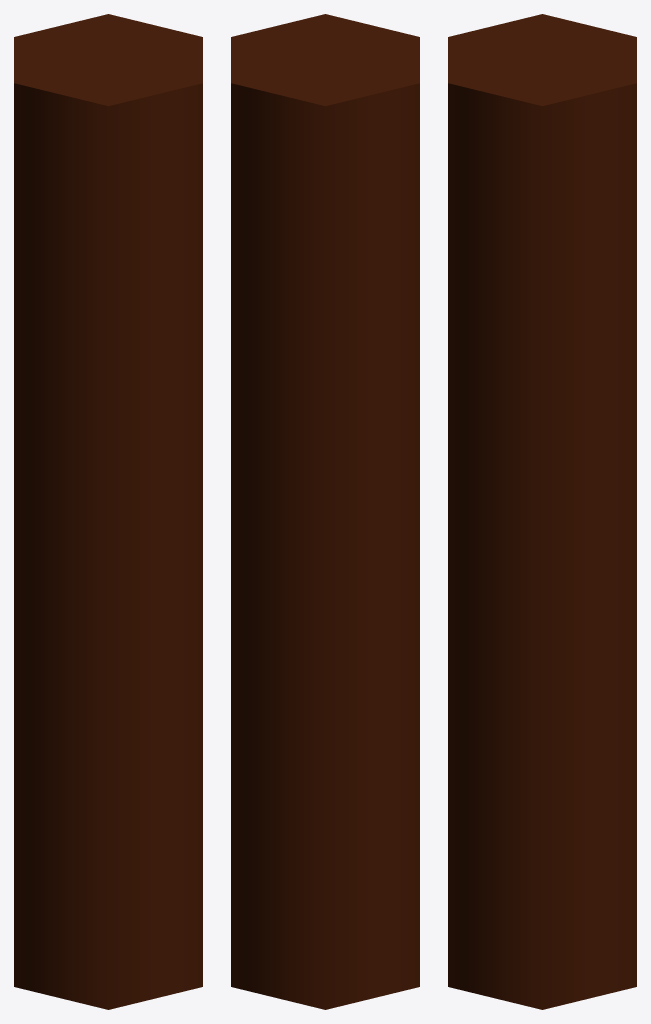
The model's file is FencePost.FBX.
3 views of the same model, side by side, from view 1: azimuth 30°, elevation 25°; view 2: azimuth 150°, elevation 25°; view 3: azimuth 270°, elevation 25° (orthographic).
Parts seen in each view (by area): view 1: Fence169; view 2: Fence169; view 3: Fence169.
Part boxes in pixels (x1,y1,x2,y2): Fence169: (14, 14, 202, 1009); Fence169: (231, 14, 419, 1009); Fence169: (448, 14, 636, 1009).
Bounding box in the file's own units: 215 × 186 × 984.
